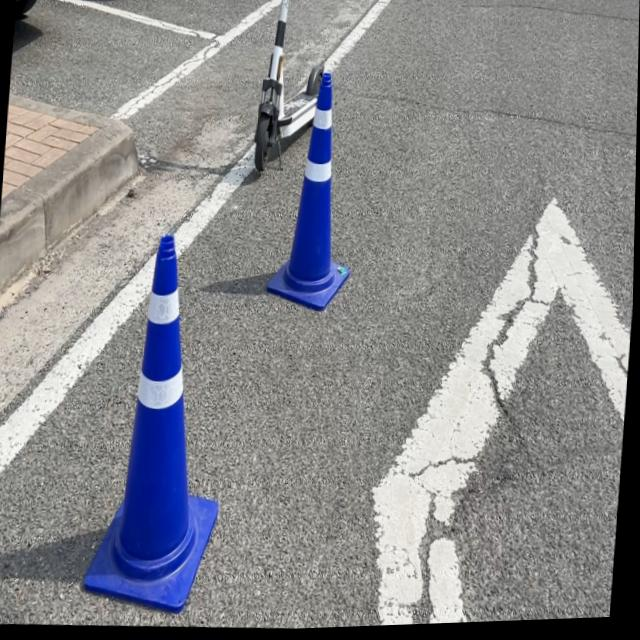b_rub: (87, 235, 221, 614), (269, 74, 351, 312)
